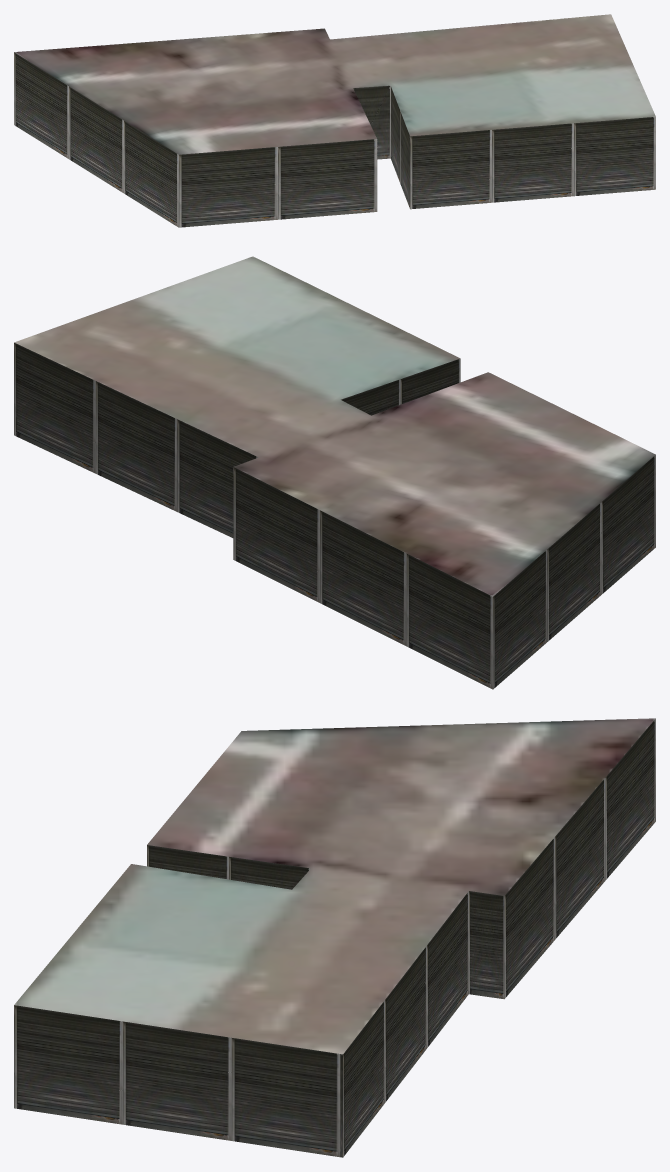
Rendered from T_1T8E24PGN1.dae.
The picture shows the model from 3 angles, top to bottom: view 1: azimuth 30°, elevation 25°; view 2: azimuth 150°, elevation 25°; view 3: azimuth 270°, elevation 25°; orthographic projection. The views are drawn at different scales.
Visible parts, largest first — view 1: SketchUp (×6); view 2: SketchUp (×5); view 3: SketchUp (×6).
Part boxes in pixels (left/top/right/bottom): SketchUp (×6): left=14, top=14, right=655, bottom=227; SketchUp (×5): left=14, top=256, right=655, bottom=689; SketchUp (×6): left=14, top=718, right=655, bottom=1157.
Bounding box in the file's own units: 27.79 × 22.43 × 3.98.
Materials: 2 (2 with a texture image).
